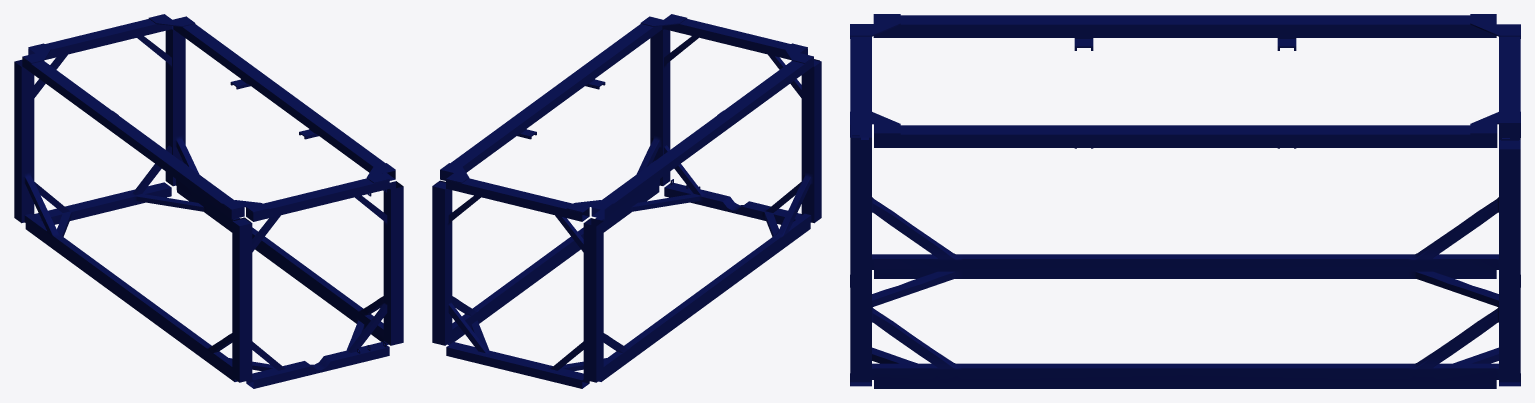
The model's file is box_frame_final.obj.
3 renders of one model, left to right at view 1: azimuth 30°, elevation 25°; view 2: azimuth 150°, elevation 25°; view 3: azimuth 270°, elevation 25°, orthographic. The views are drawn at different scales.
Parts seen in each view (by area): view 1: Fram_top, Frame_Bottom_2; view 2: Fram_top, Frame_Bottom_2; view 3: Frame_Bottom_2, Fram_top.
Boxes of the visible parts, <box> form: Fram_top: <box>14,14,403,300</box>; Frame_Bottom_2: <box>14,99,403,388</box>; Fram_top: <box>432,14,821,300</box>; Frame_Bottom_2: <box>432,99,821,388</box>; Frame_Bottom_2: <box>850,197,1520,388</box>; Fram_top: <box>850,14,1520,259</box>.
Size of the model in its own units: 2.56 by 2.63 by 6.07.
